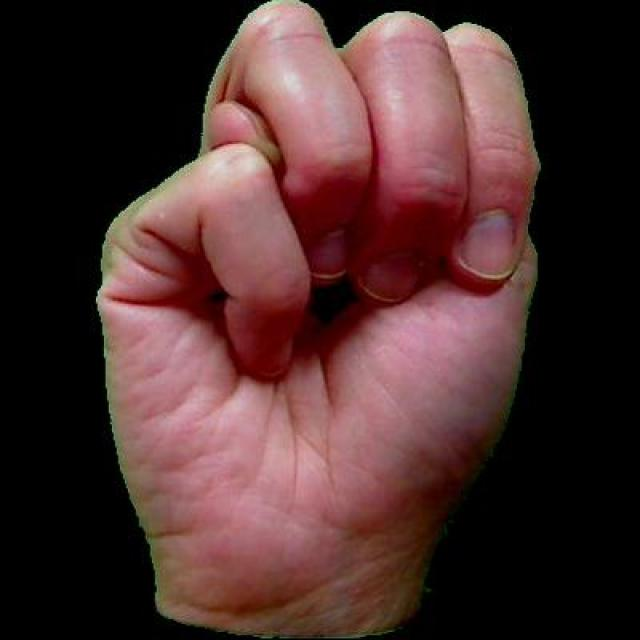m: (74, 0, 560, 637)
